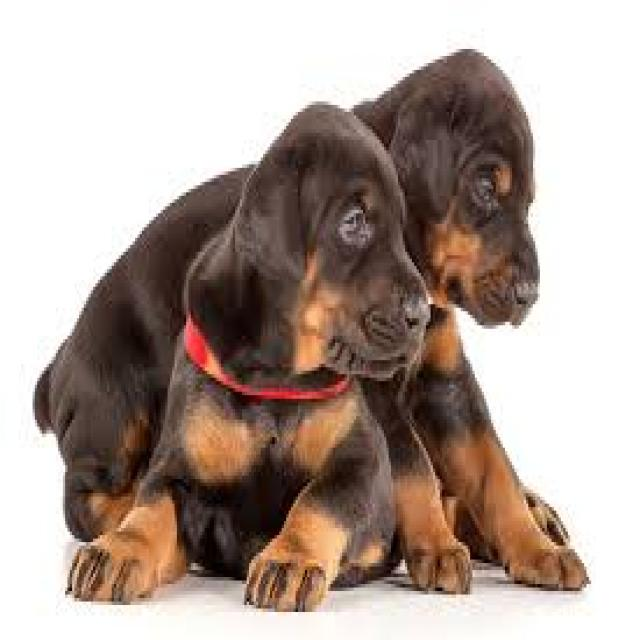Dog: (187, 93, 434, 394), (384, 36, 547, 332)
